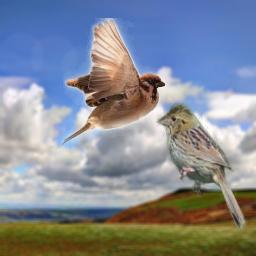Sparrow: (58, 18, 165, 148), (156, 101, 248, 231)
